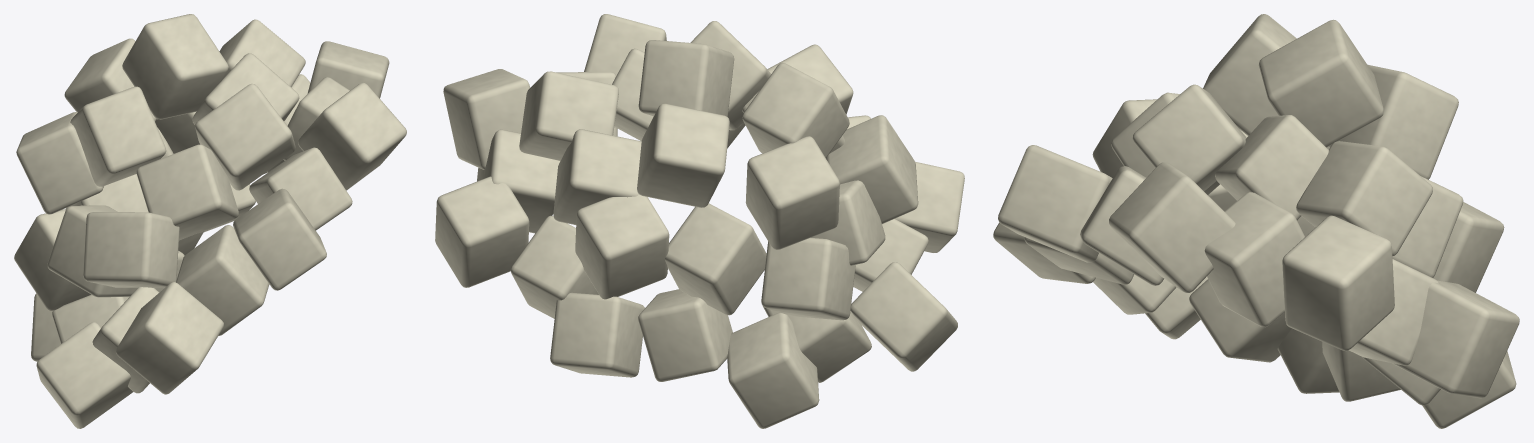
The picture shows the model from 3 angles, left to right: view 1: azimuth 30°, elevation 25°; view 2: azimuth 150°, elevation 25°; view 3: azimuth 270°, elevation 25°; orthographic projection. The views are drawn at different scales.
Parts seen in each view (by area): view 1: Angular material grain; view 2: Angular material grain; view 3: Angular material grain.
Boxes of the visible parts, left/top/right/bottom form: Angular material grain: left=14, top=14, right=406, bottom=428; Angular material grain: left=435, top=14, right=964, bottom=428; Angular material grain: left=993, top=14, right=1519, bottom=428.
Size of the model in its own units: 0.9013 by 0.6994 by 0.8086.
1 material, 1 textured.
